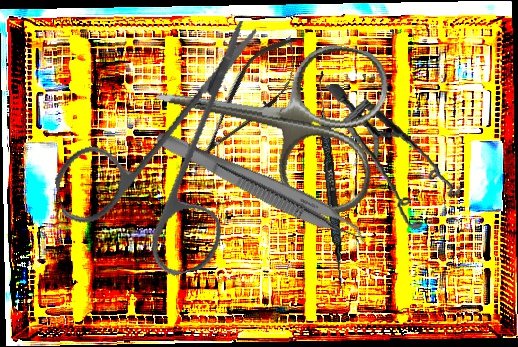Iris Scissors: (28, 17, 309, 299), (139, 13, 396, 219)
Micro Scissor: (180, 23, 316, 177)
Spatula Surgical: (311, 70, 350, 290)
Speculum: (326, 70, 466, 238)
Tissue Forceps: (148, 128, 373, 251)
